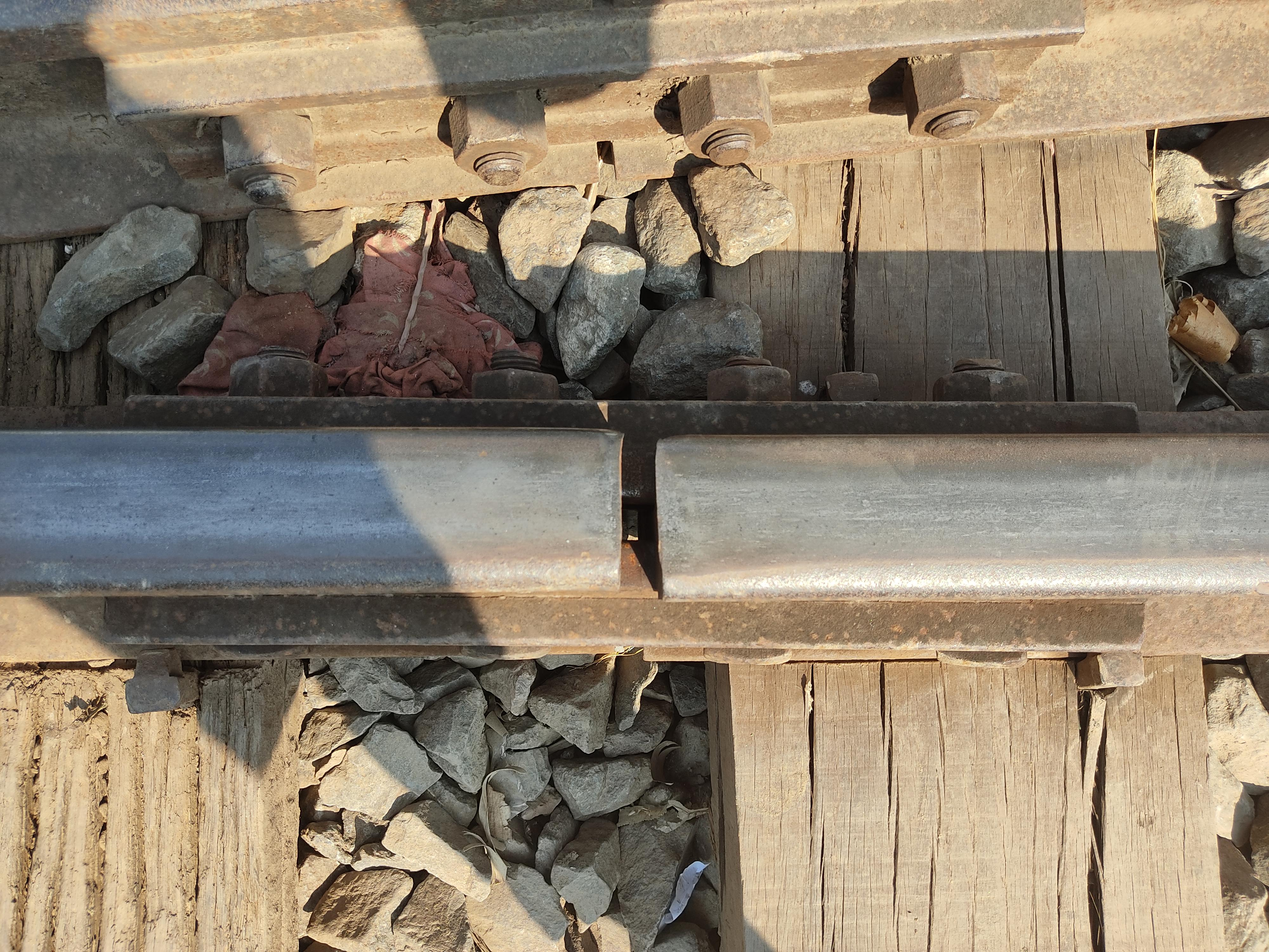railway-gap: (540, 390, 833, 562)
